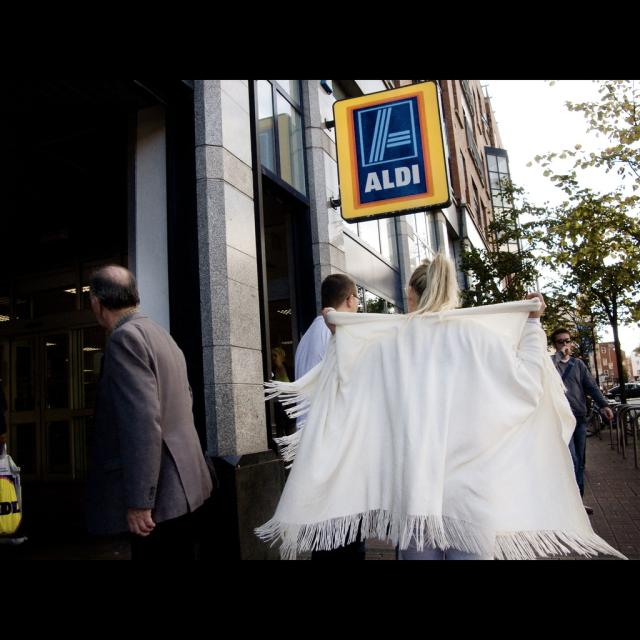aldi: (334, 82, 451, 219)
